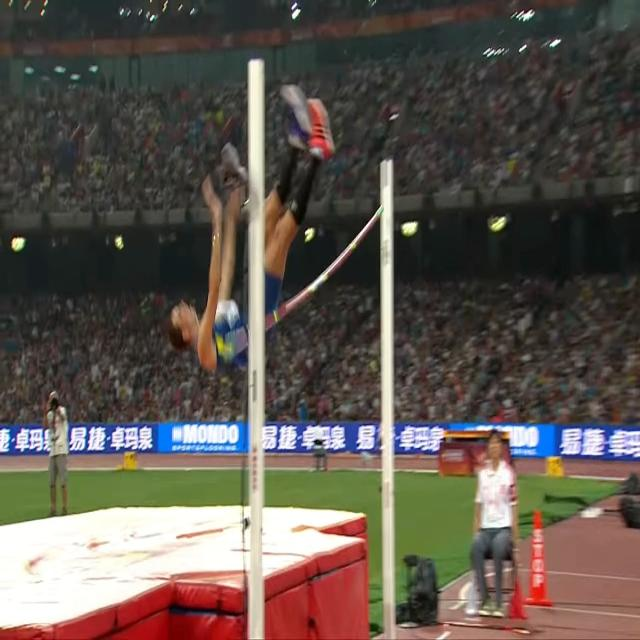land: (172, 81, 336, 371)
